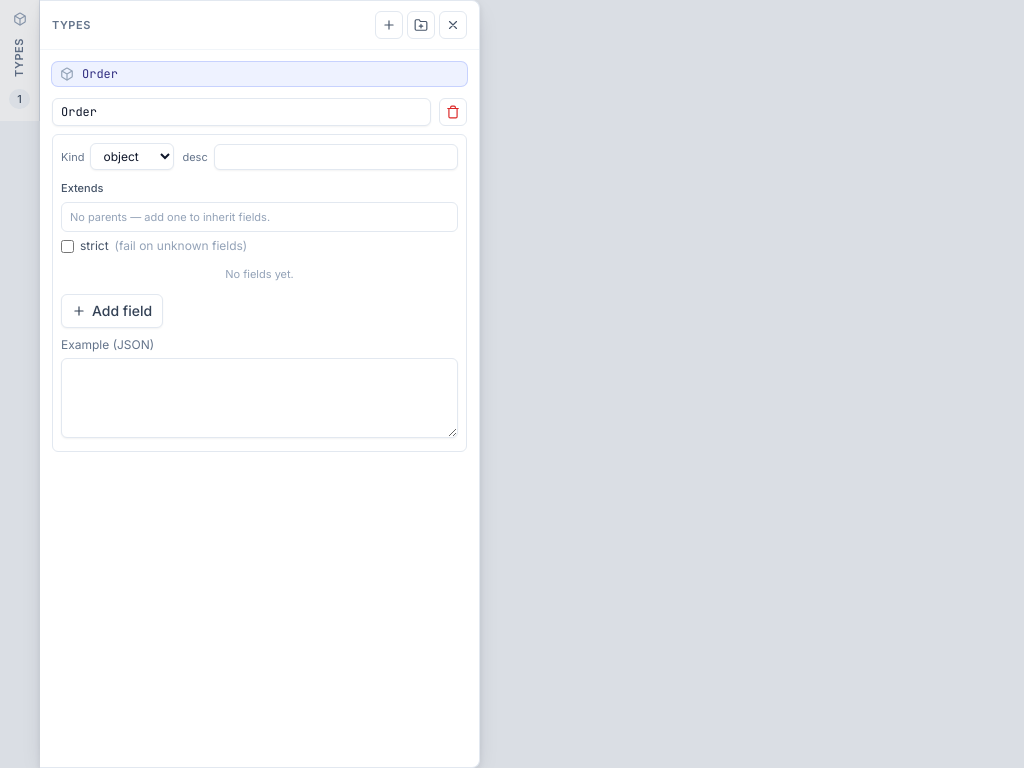
clicking "New folder" exposes an input, Enter commits an empty folder row
Click the button named "New folder" at (421, 25), box [407,11,435,39]
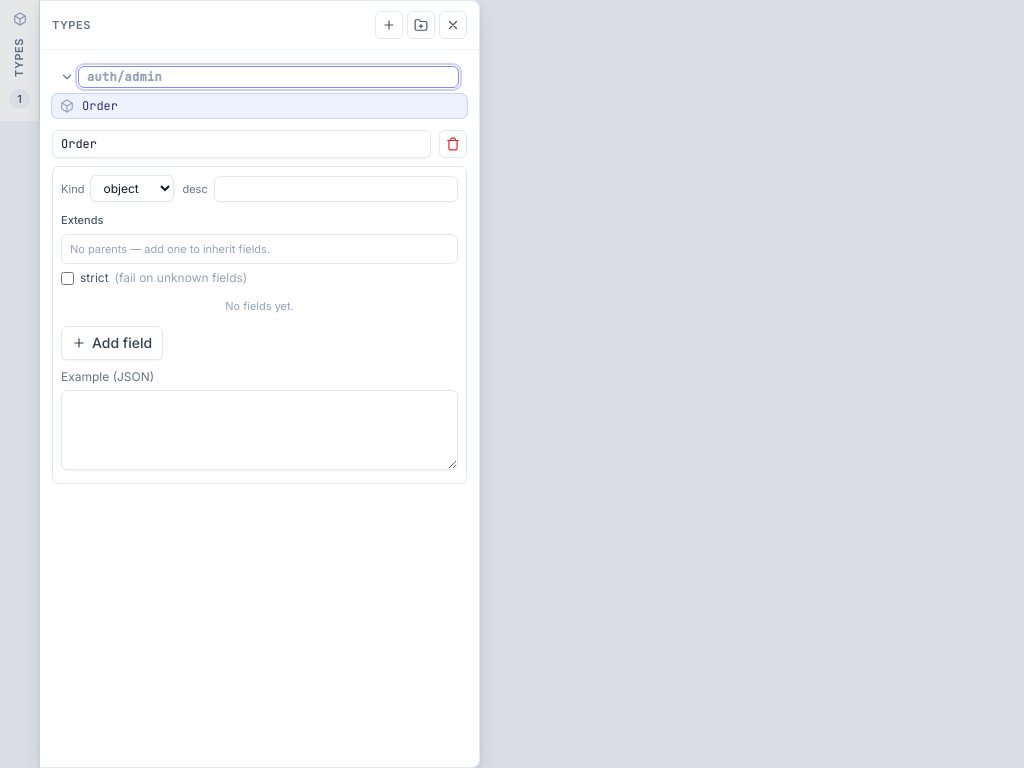
Type "auth" into the field named "New folder" at (268, 77), box [78,66,459,88]
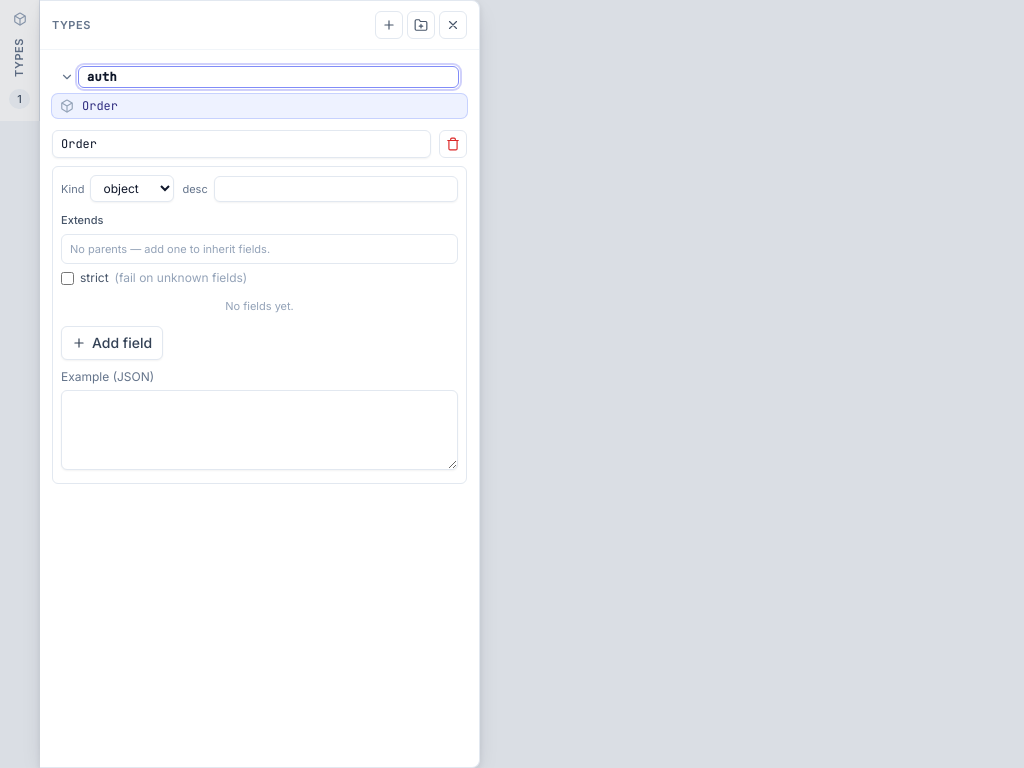
Press Enter
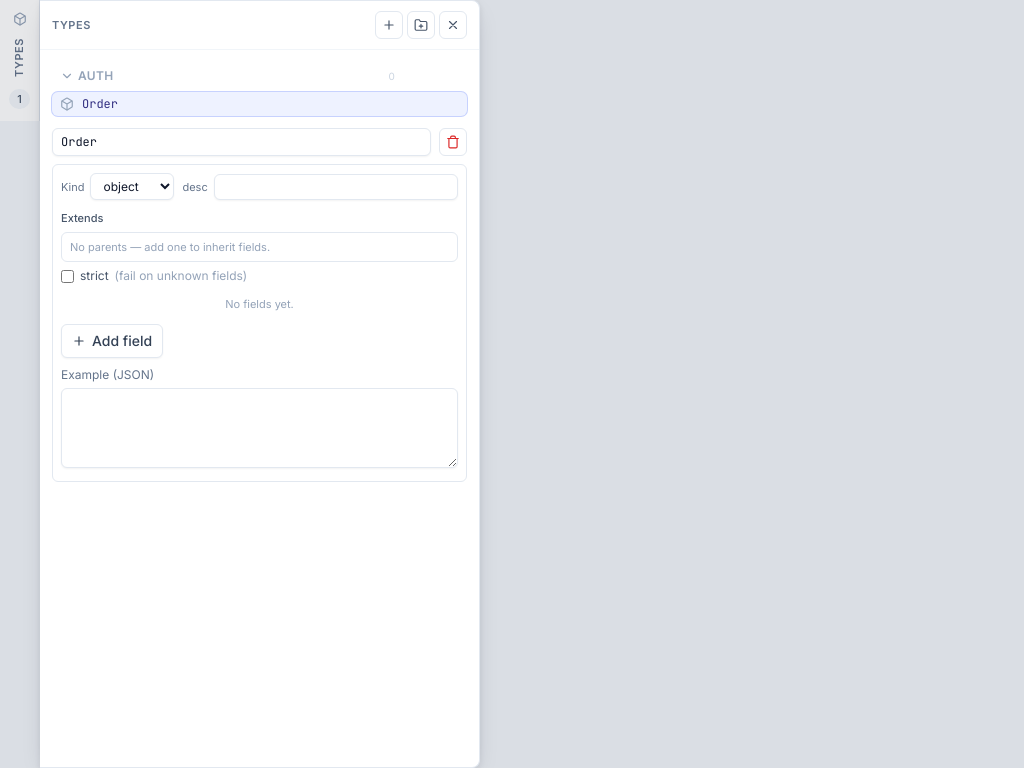
Result: the text "auth" is shown at [78,68,113,84]
